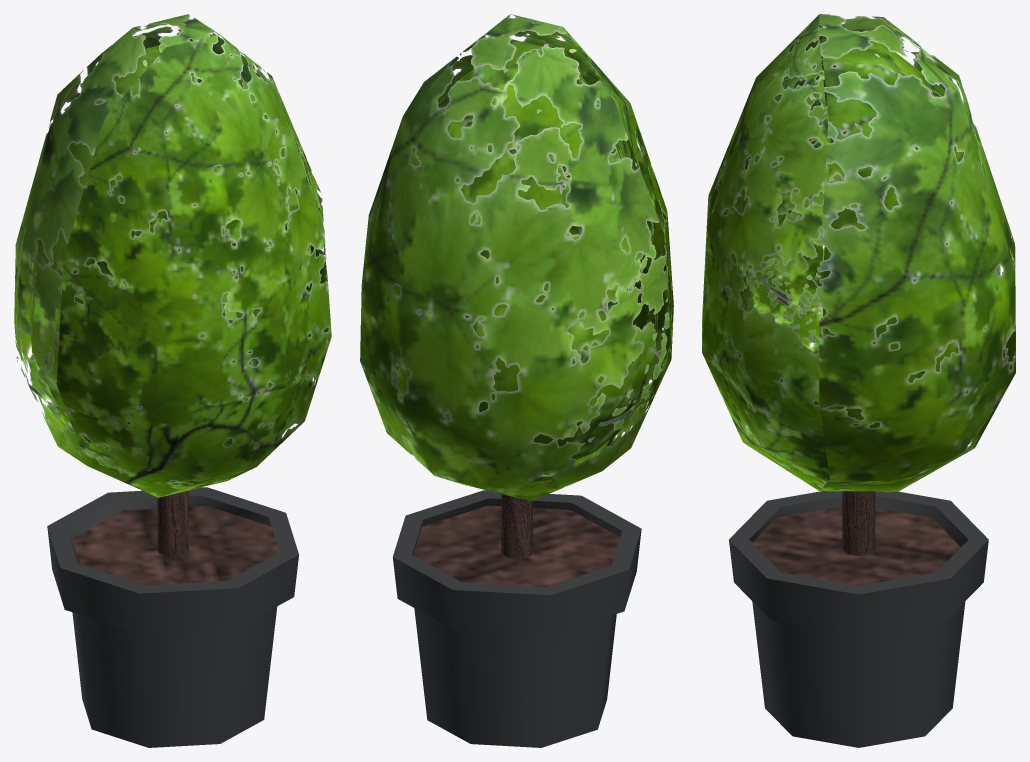
Rendered from tree.fbx.
The picture shows the model from 3 angles, left to right: view 1: azimuth 30°, elevation 25°; view 2: azimuth 150°, elevation 25°; view 3: azimuth 270°, elevation 25°; orthographic projection.
Parts seen in each view (by area): view 1: Quadsphere.002, Cylinder, Quadsphere.001, Cylinder.001; view 2: Quadsphere.002, Cylinder, Quadsphere.001, Cylinder.001; view 3: Quadsphere.002, Cylinder, Quadsphere.001, Cylinder.001.
Boxes of the visible parts, box(x1,y1,x2,y2) form: Quadsphere.002: box(14, 14, 331, 497); Cylinder: box(47, 487, 298, 747); Quadsphere.001: box(29, 40, 312, 452); Cylinder.001: box(157, 481, 188, 556); Quadsphere.002: box(360, 14, 673, 501); Cylinder: box(392, 490, 641, 747); Quadsphere.001: box(392, 39, 658, 459); Cylinder.001: box(501, 494, 532, 558); Quadsphere.002: box(702, 14, 1015, 491); Cylinder: box(729, 491, 988, 747); Quadsphere.001: box(724, 38, 1000, 436); Cylinder.001: box(842, 491, 875, 555).
Bounding box in the file's own units: 106 × 255 × 106.
